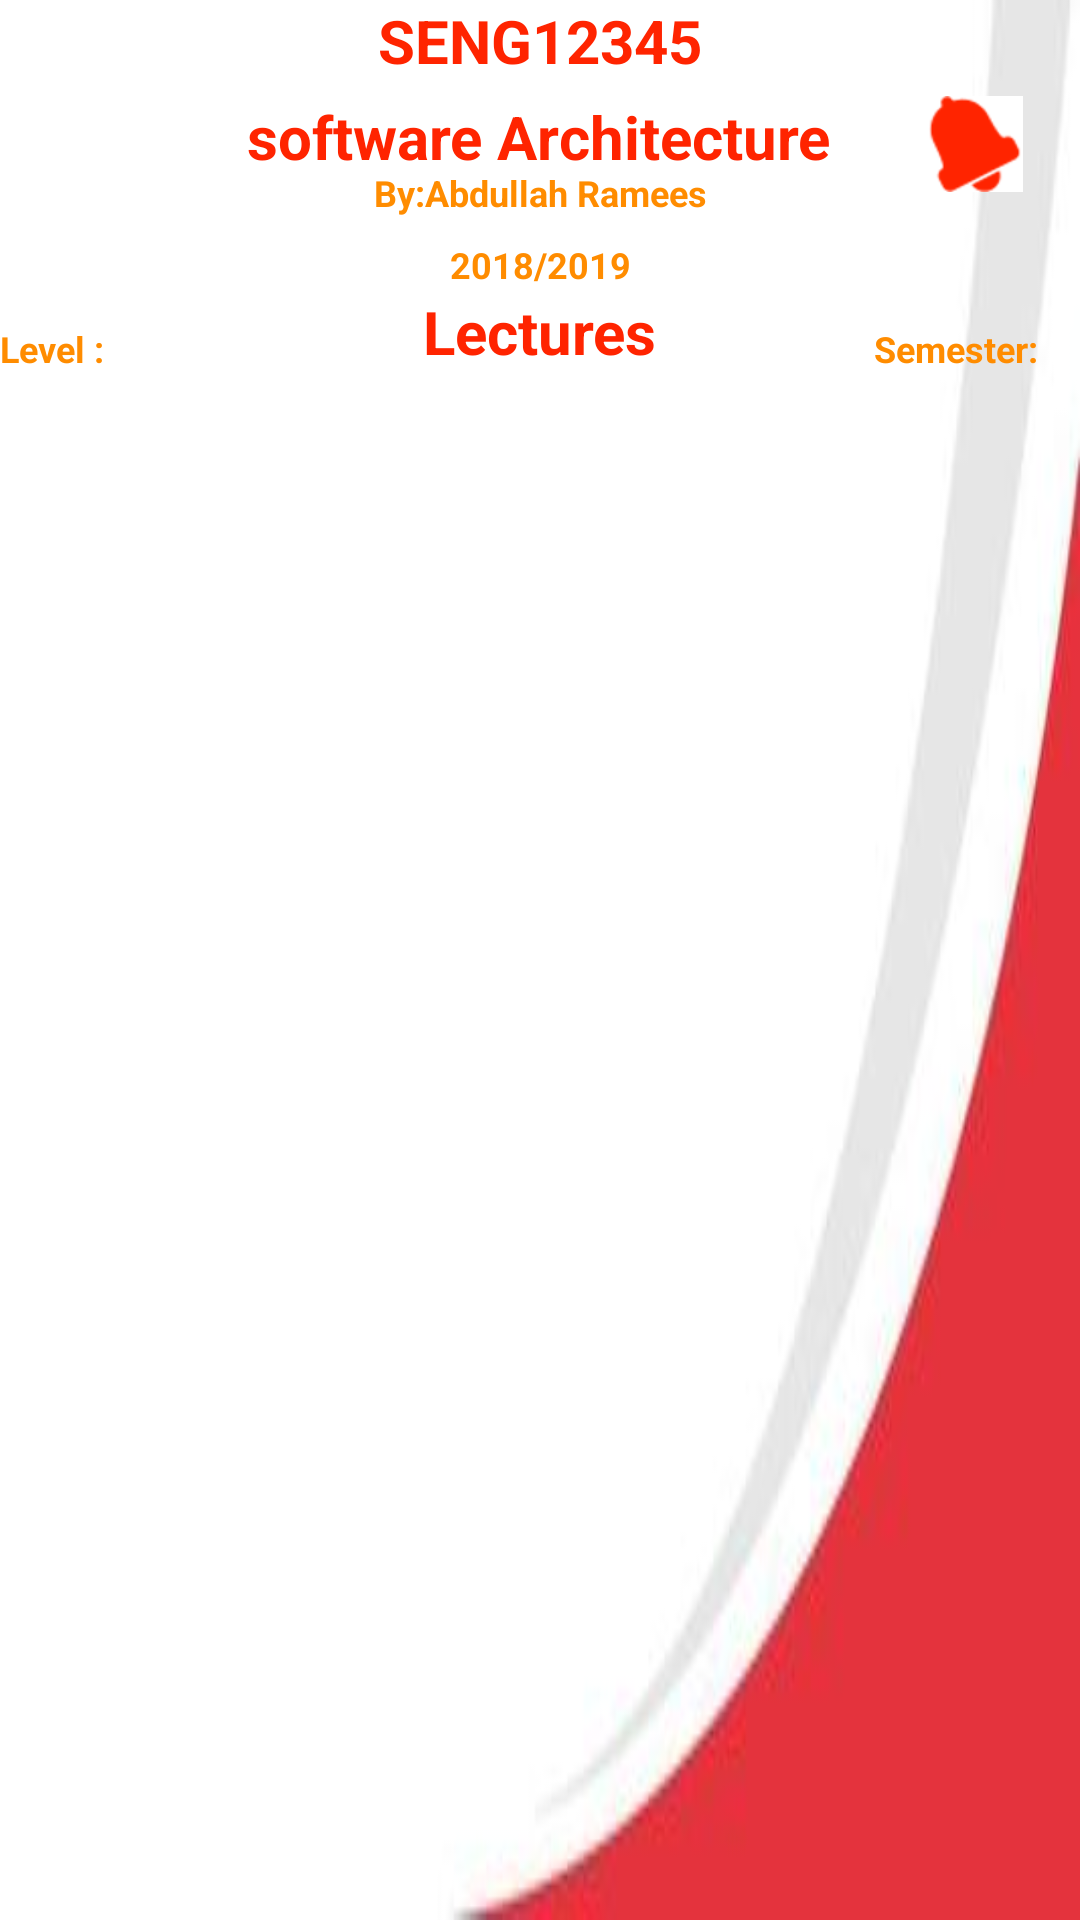

Screen size 1080w x 1920h. Icon name, then its box in pixels as box(x1, y1, x2, y2):
popup reminder: box(930, 96, 1020, 192)
